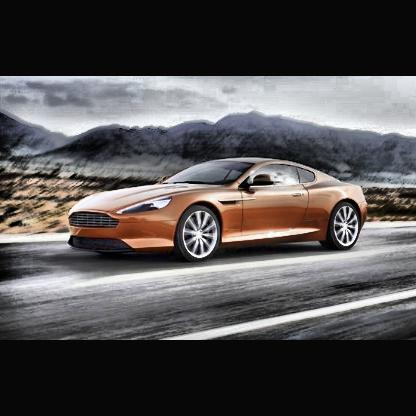Aston Martin Virage Coupe 2012: (65, 157, 376, 268)
